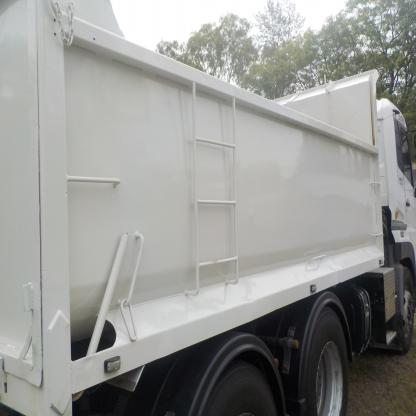dump_truck: (7, 7, 416, 416)
